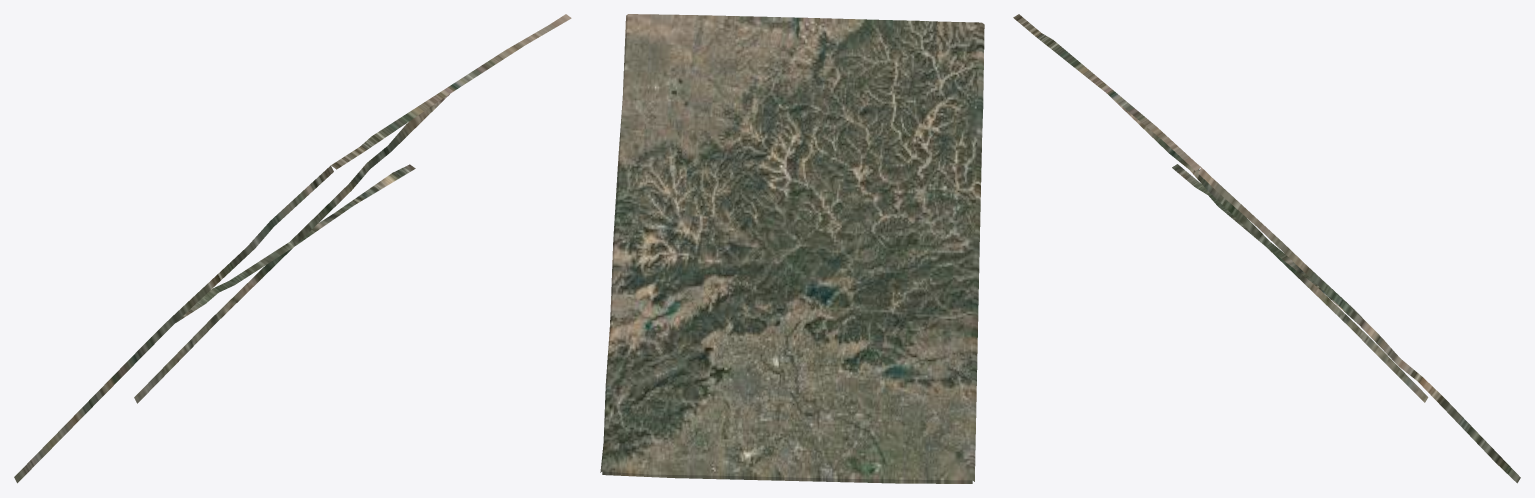
3 renders of one model, left to right at view 1: azimuth 30°, elevation 25°; view 2: azimuth 150°, elevation 25°; view 3: azimuth 270°, elevation 25°, orthographic. The views are drawn at different scales.
Size of the model in its own units: 307265 by 242068 by 292299.
1 material, 1 textured.
